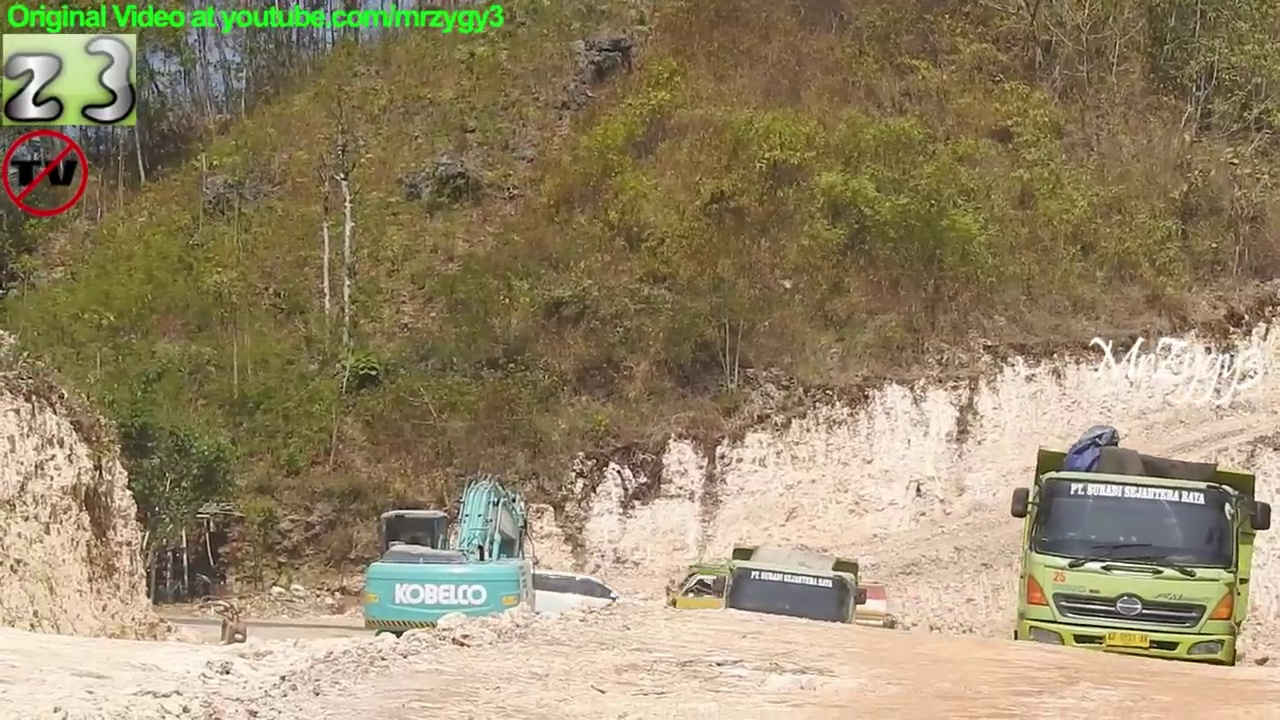excavator: (355, 465, 546, 669)
truck: (1007, 441, 1275, 706), (705, 541, 872, 688), (662, 557, 893, 650)
